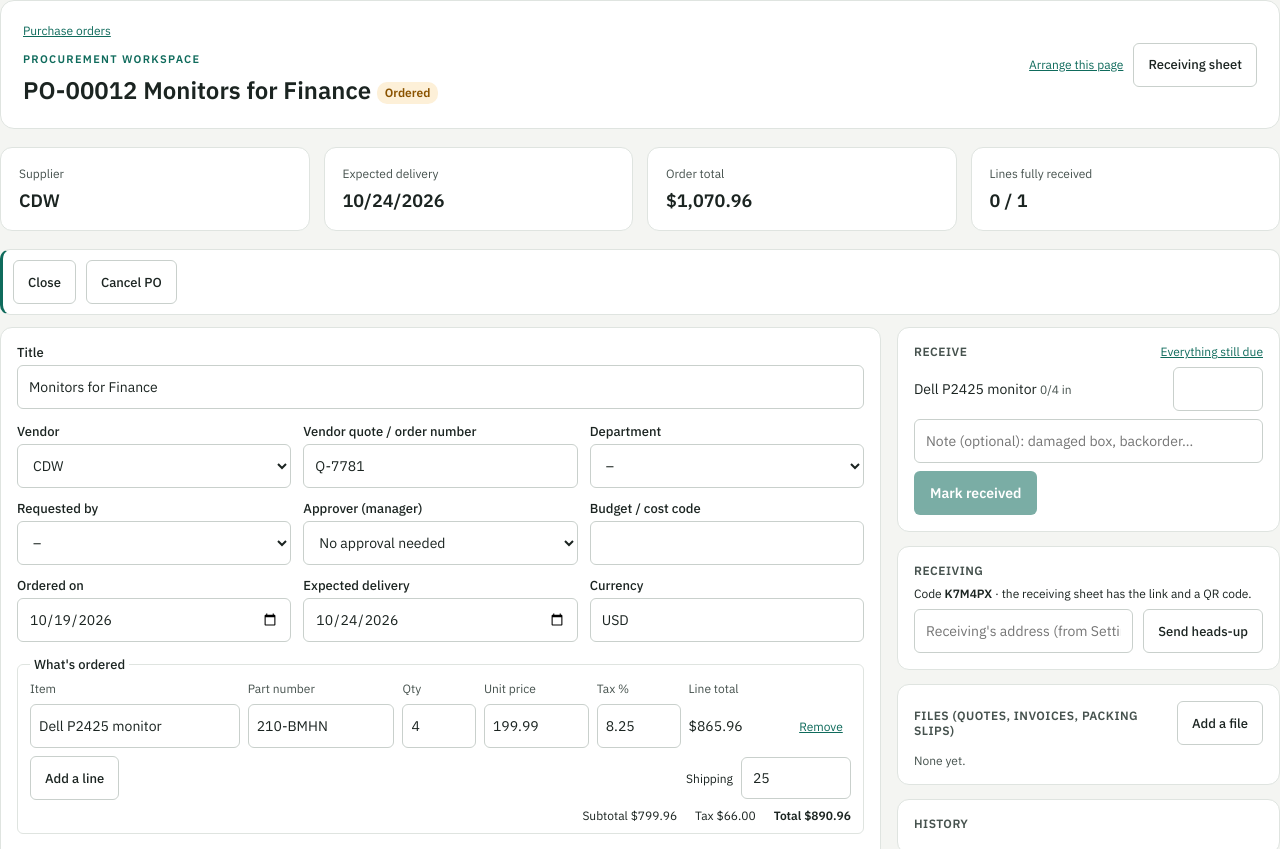
arrange the purchase order page: files across the top, history hidden
Click the button "Arrange this page" at (1076, 65), box x1=1029 y1=57 x2=1123 y2=72
(page scrolled)
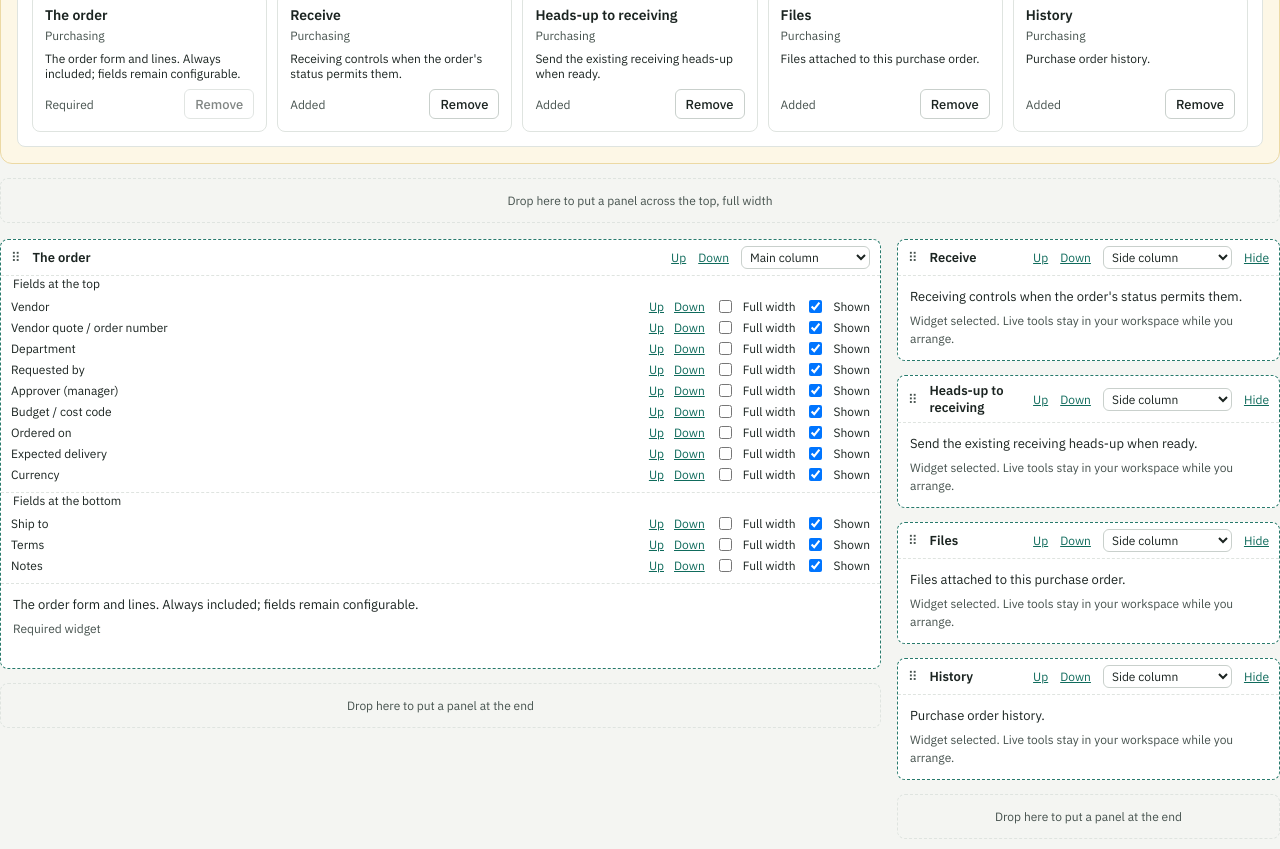
Select "Across the top" in the dropdown named "Where Files goes" at (1167, 541), box x1=1103 y1=529 x2=1232 y2=552
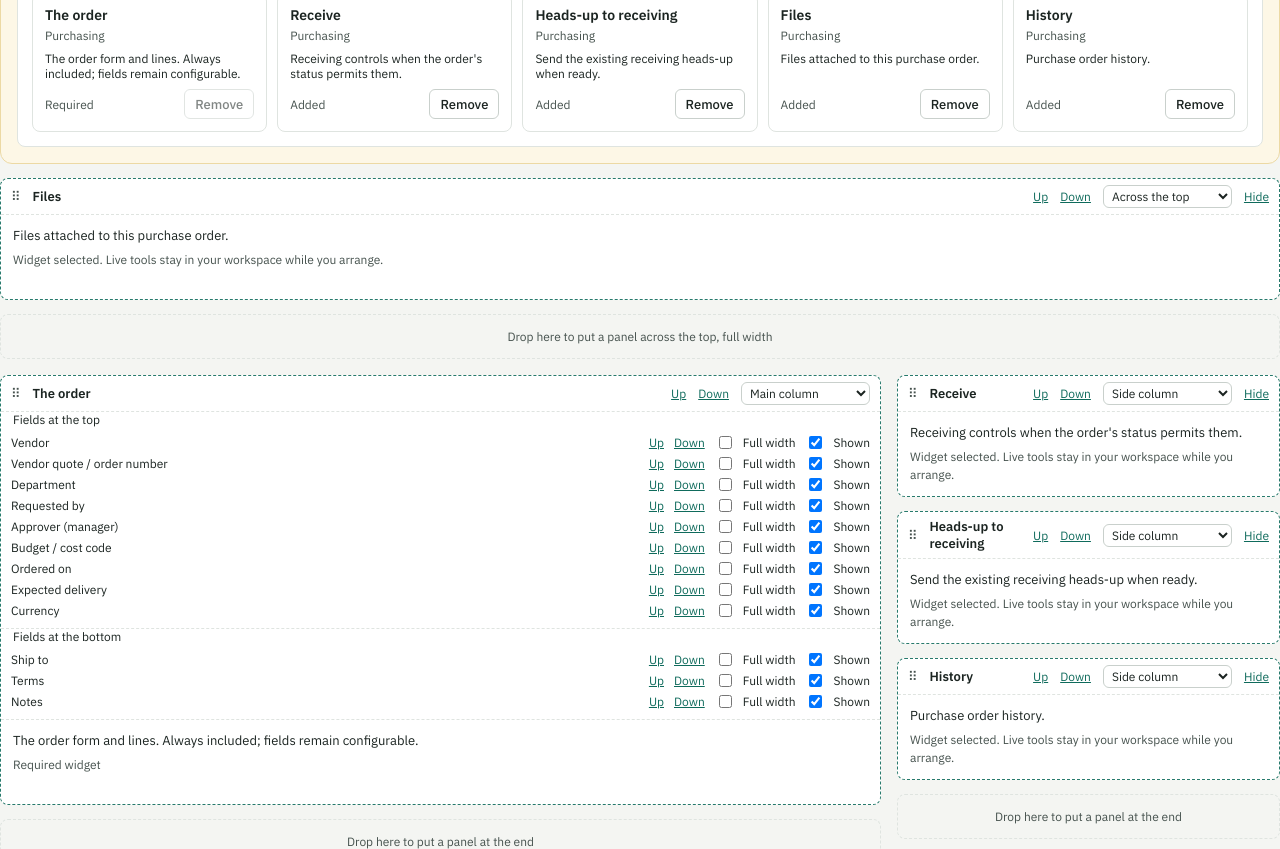
Click the button with aria-label "Hide History" at (1256, 677), box x1=1244 y1=669 x2=1269 y2=684
(page scrolled)
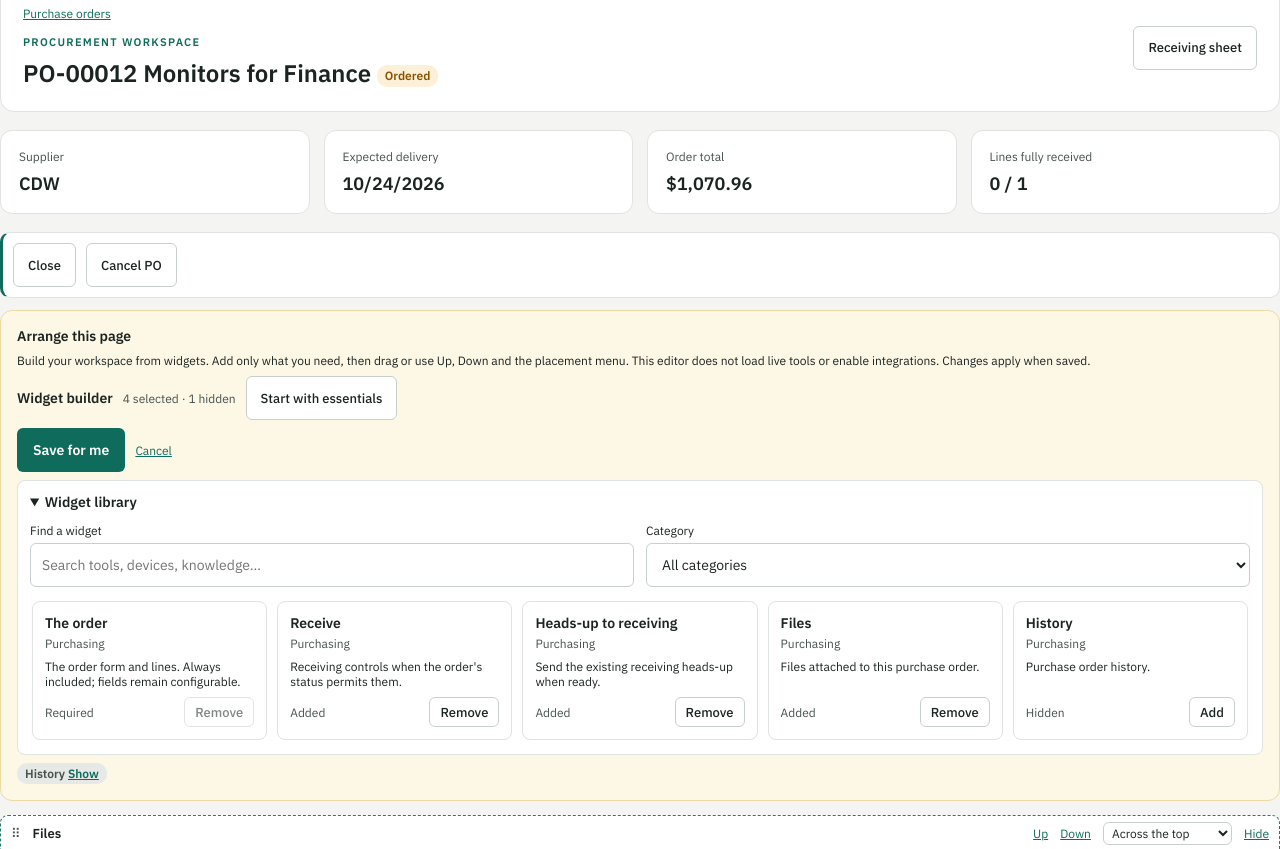
Click the button "Save for me" at (71, 450), box x1=17 y1=428 x2=125 y2=472
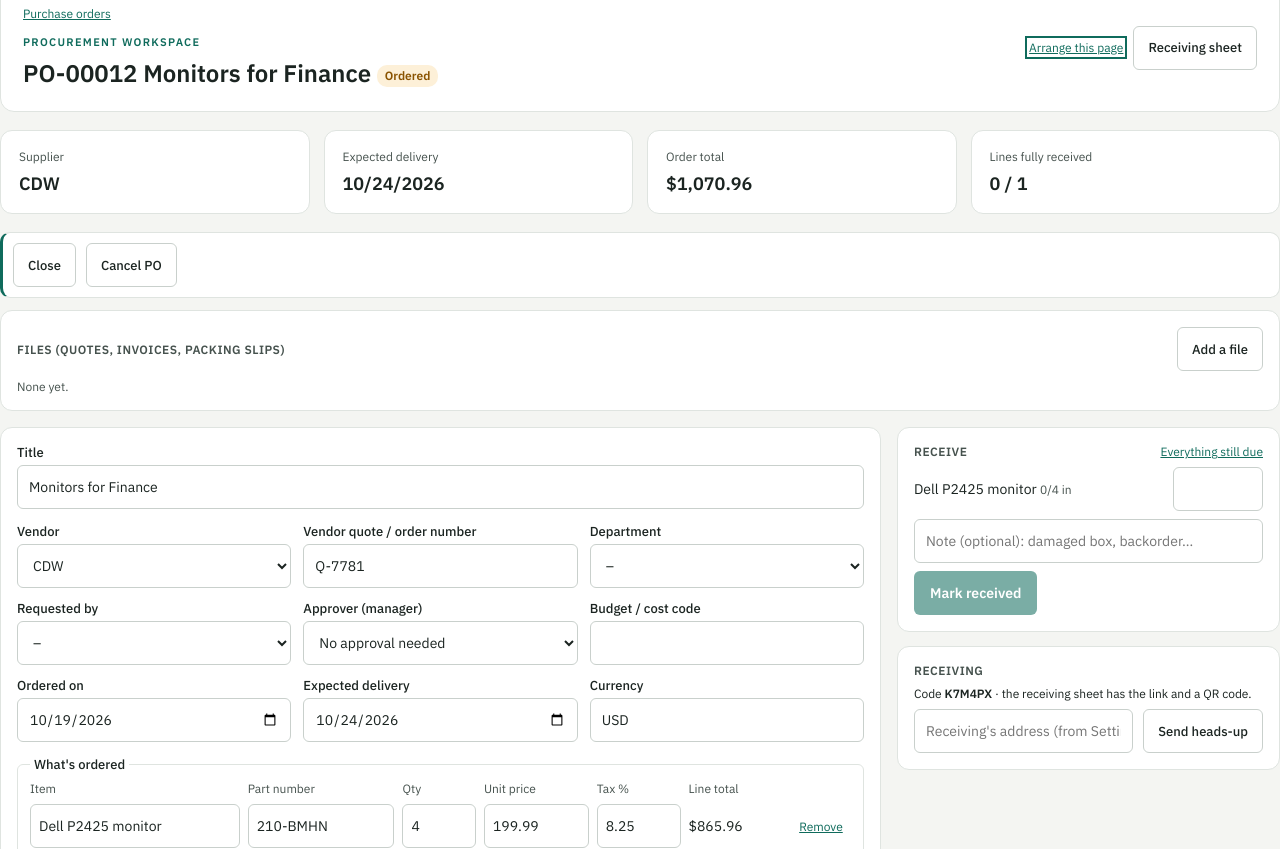
Check: the text "History" is gone
Check: the element "Files" is shown, box x1=0 y1=310 x2=1279 y2=411
